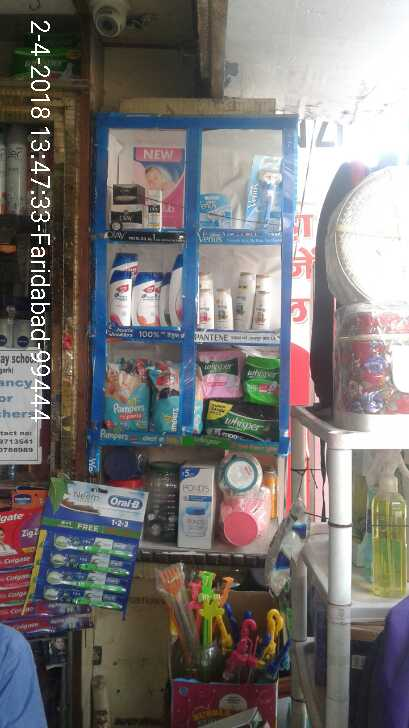venus: (245, 157, 282, 225), (200, 192, 232, 227)
